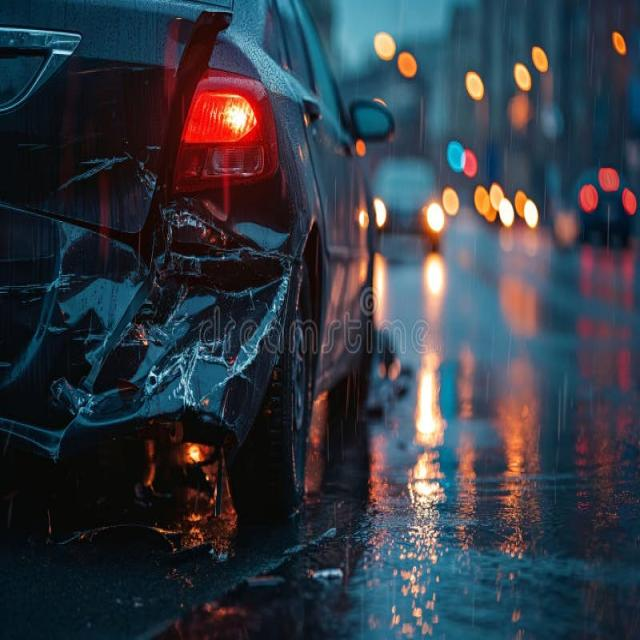Accident: (0, 0, 398, 582)
